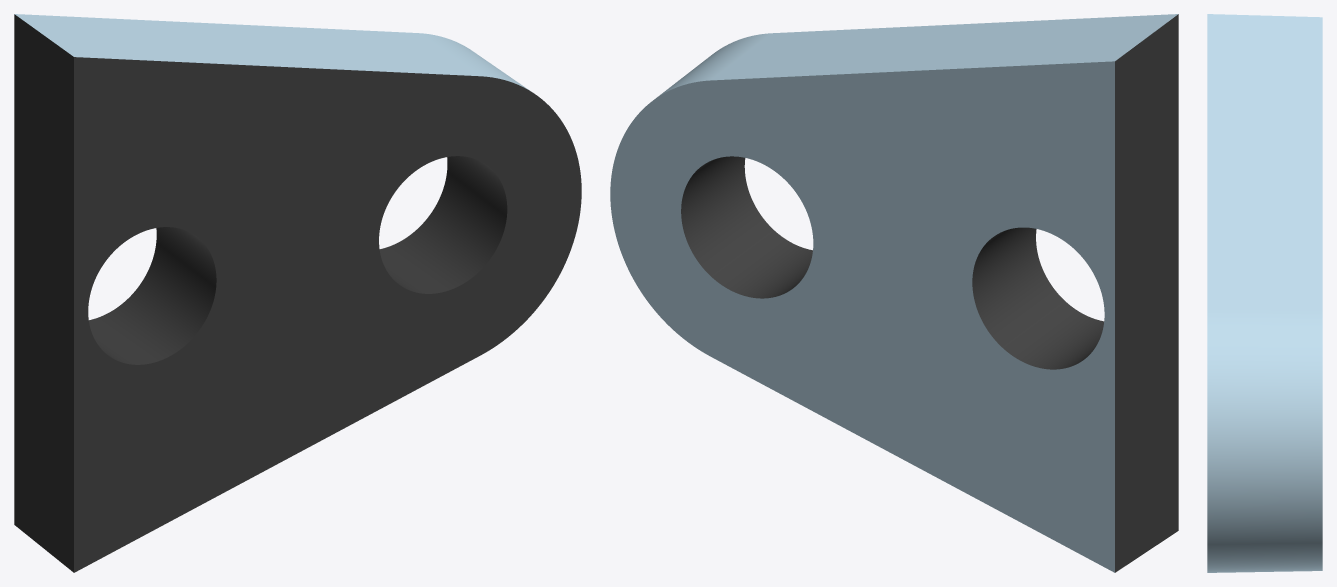
The model's file is Assembly 1 - Part 2.obj.
The picture shows the model from 3 angles, left to right: view 1: azimuth 30°, elevation 25°; view 2: azimuth 150°, elevation 25°; view 3: azimuth 270°, elevation 25°; orthographic projection. The views are drawn at different scales.
Parts seen in each view (by area): view 1: mesh1, mesh5, mesh4, mesh7, mesh0, mesh3; view 2: mesh2, mesh5, mesh4, mesh7, mesh0, mesh3; view 3: mesh4, mesh3.
Part boxes in pixels (left/top/right/bottom): mesh1: left=74, top=57, right=581, bottom=572; mesh5: left=14, top=14, right=73, bottom=572; mesh4: left=14, top=14, right=479, bottom=76; mesh7: left=89, top=227, right=216, bottom=364; mesh0: left=379, top=156, right=507, bottom=293; mesh3: left=418, top=33, right=529, bottom=90; mesh2: left=610, top=61, right=1114, bottom=572; mesh5: left=1115, top=14, right=1178, bottom=572; mesh4: left=711, top=14, right=1177, bottom=80; mesh7: left=972, top=227, right=1104, bottom=369; mesh0: left=681, top=156, right=812, bottom=298; mesh3: left=656, top=33, right=770, bottom=97; mesh4: left=1207, top=14, right=1322, bottom=311; mesh3: left=1207, top=310, right=1322, bottom=572.
Size of the model in its own units: 0.0119 by 0.0115 by 0.0025.
